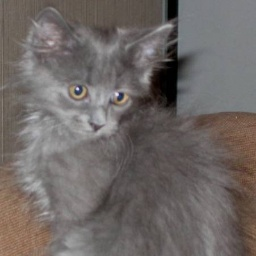cat: (21, 11, 256, 256)
